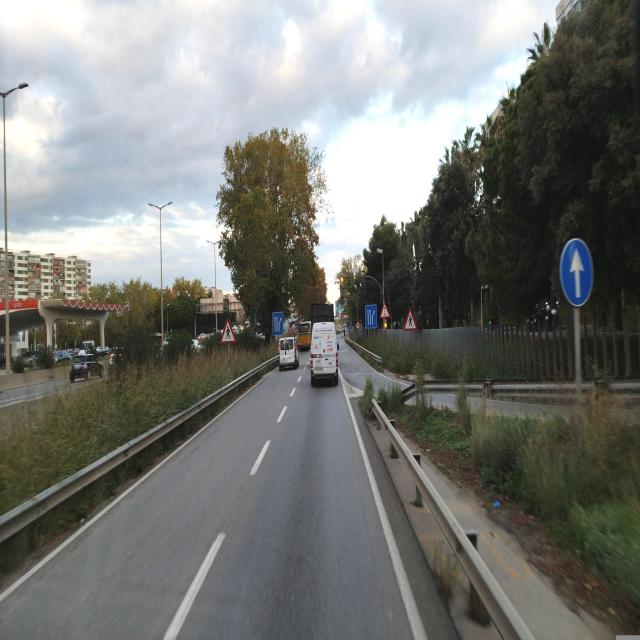car: (310, 301, 339, 387), (278, 335, 300, 371), (68, 353, 90, 383)
